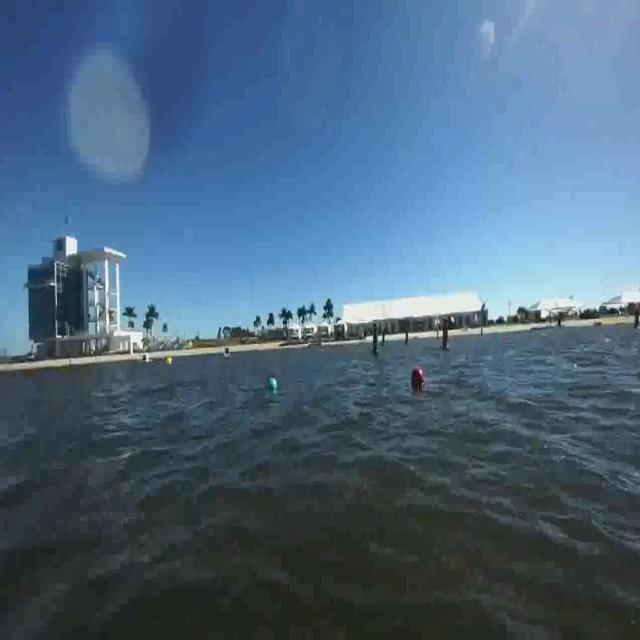green-buoy: (270, 378, 278, 392)
red-buoy: (413, 370, 424, 385)
yellow-buoy: (165, 356, 171, 366)
